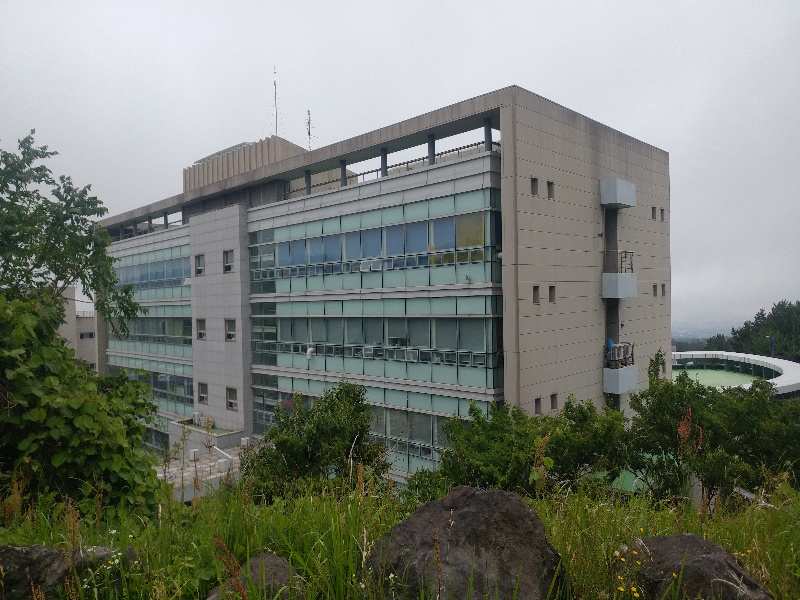College of Marine Science: (107, 100, 704, 465)
